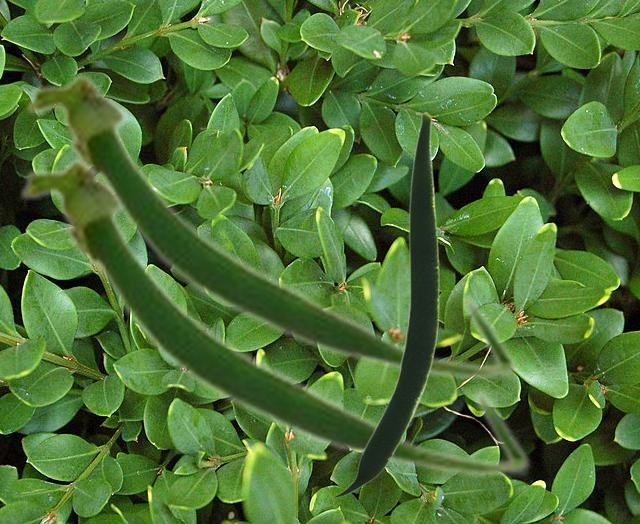french_bean: (16, 156, 532, 479), (22, 69, 519, 382), (331, 112, 438, 497)
